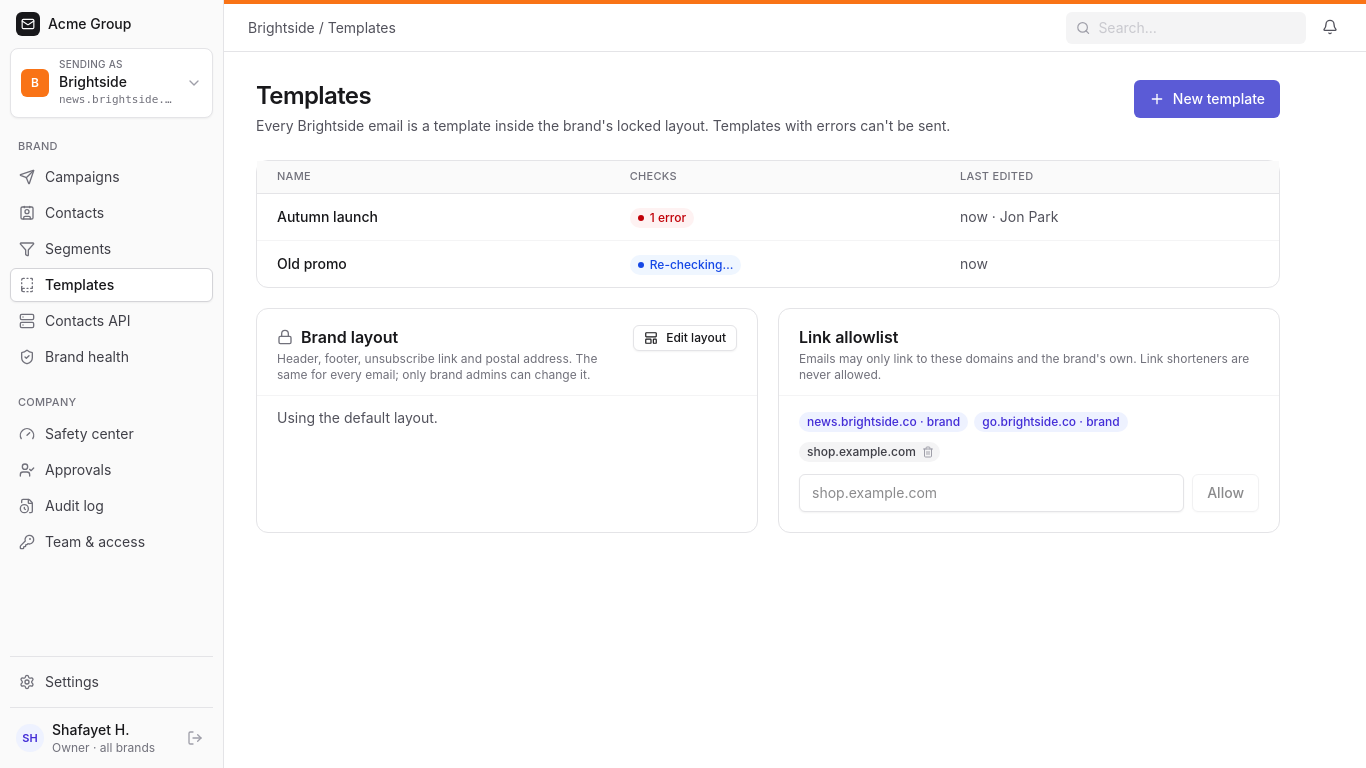
templates list (S13) › lets brand admins allow a domain, and tells them templates were re-checked
Step 1. Type "blog.example.org" into the field named "Domain to allow" → (992, 493), box [799,474,1184,512]
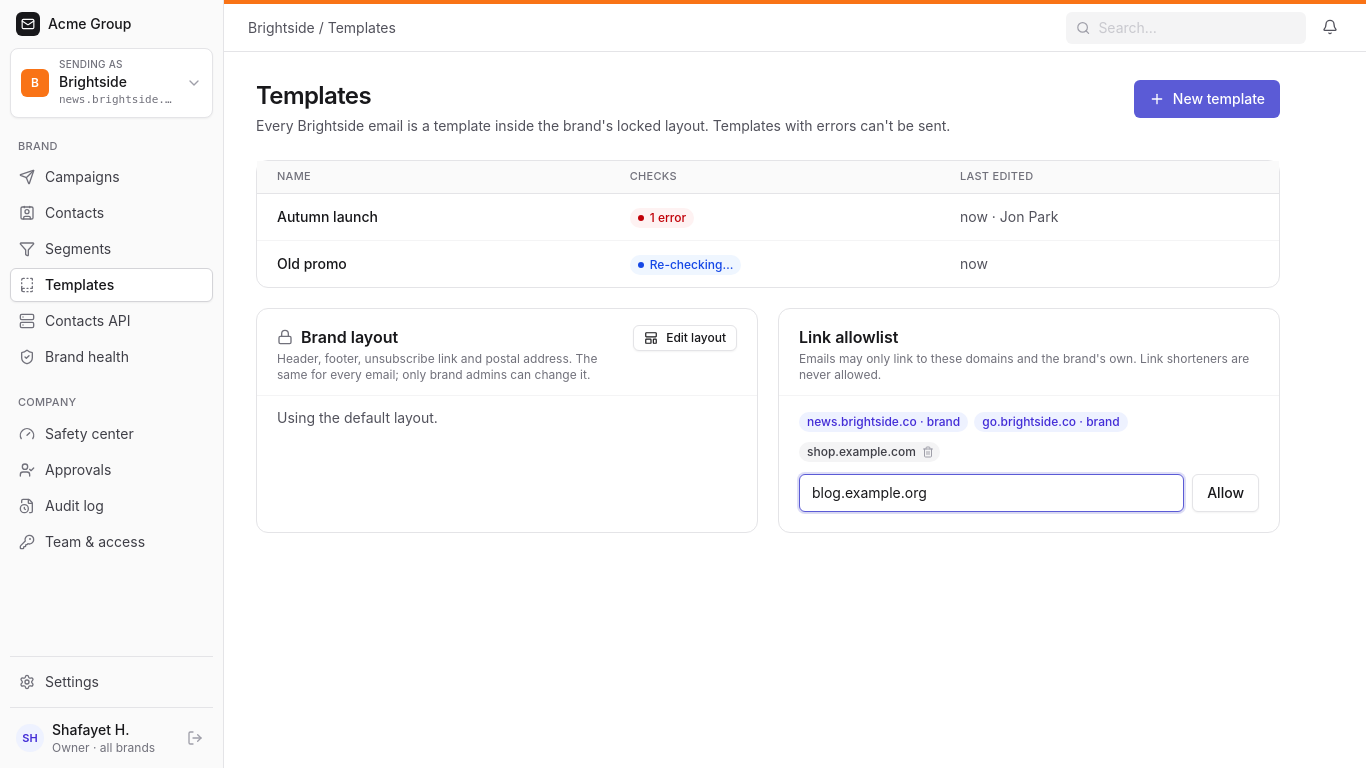
Step 2. Click the button "Allow" → click(1226, 493), box [1192,474,1259,512]
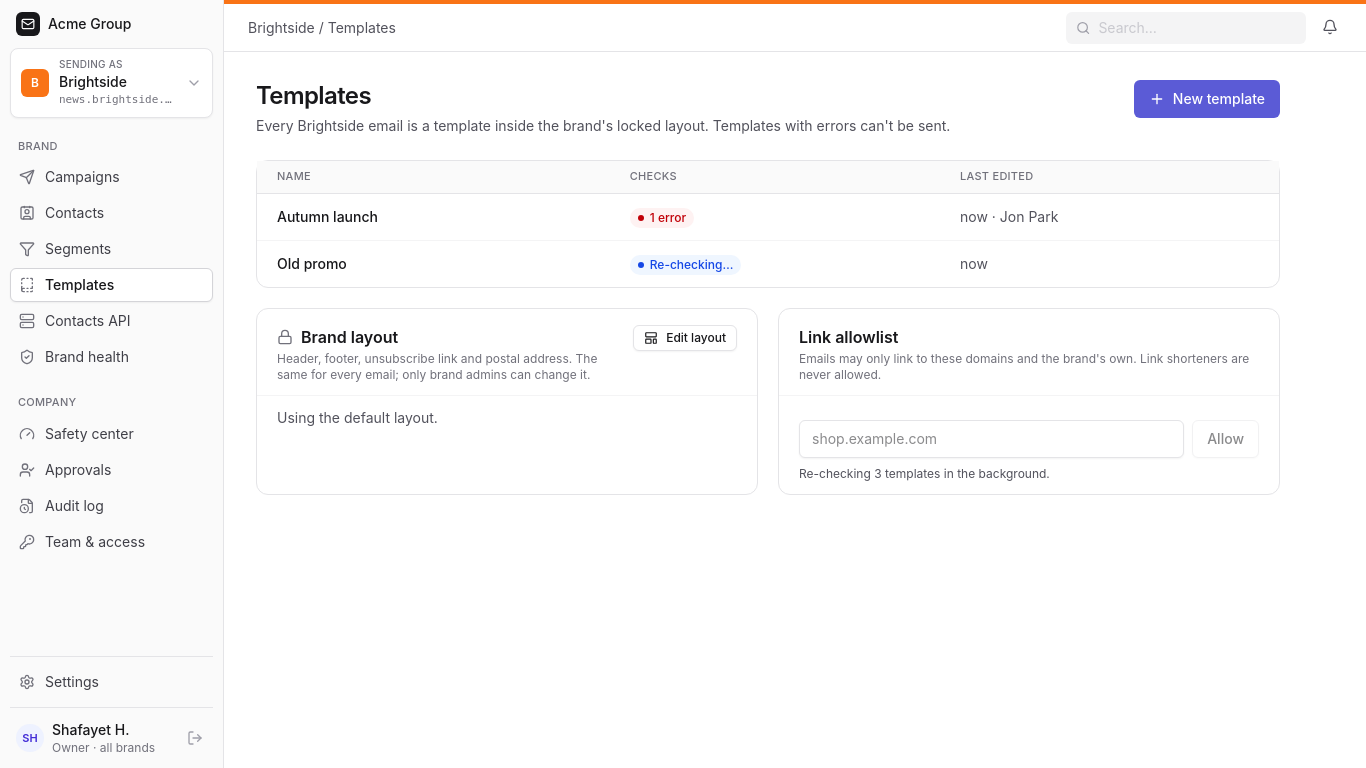
Expected: the text "Re-checking 3 templates in the background." is shown, [799,466,1050,481]
